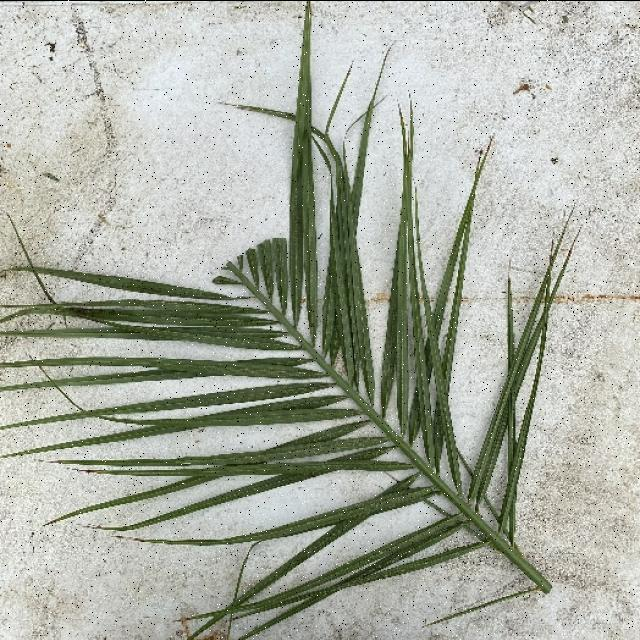organik: (6, 44, 572, 640)
